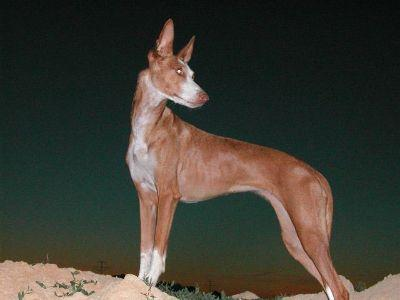Ibizan_hound: (126, 16, 351, 299)
